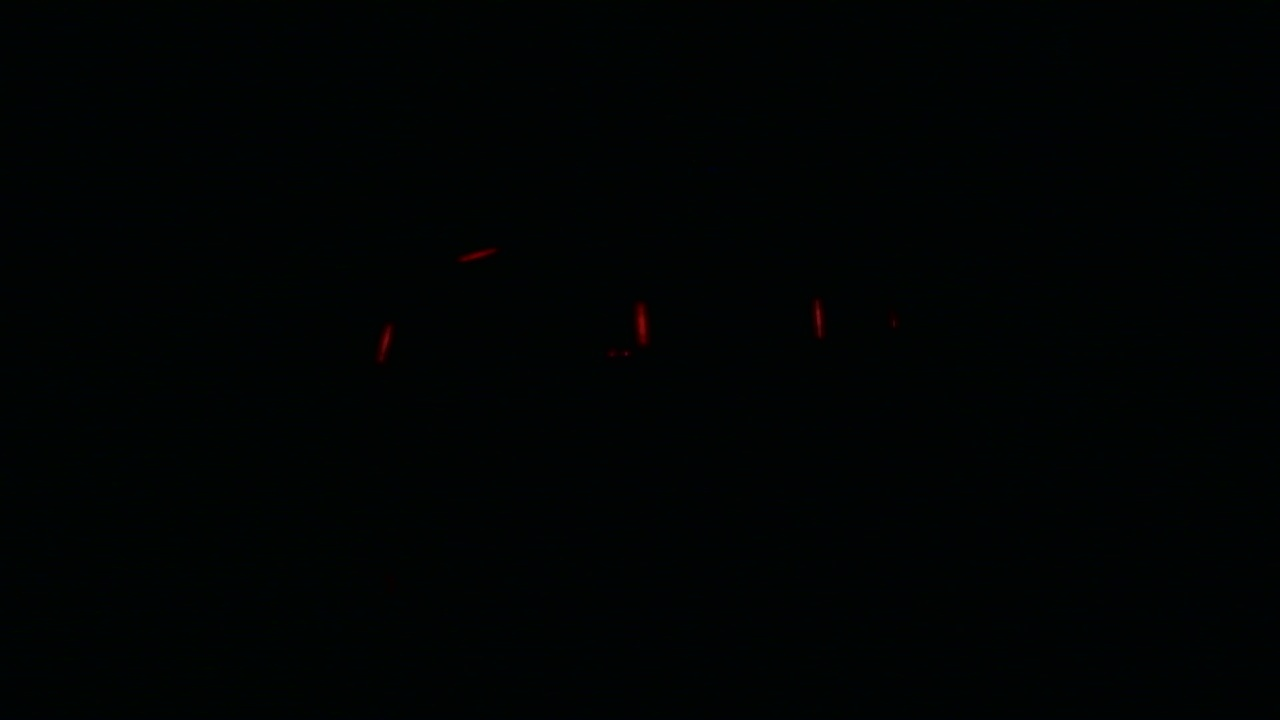lamp: (632, 298, 649, 344), (808, 297, 822, 338), (376, 327, 391, 360)
notpair2: (375, 295, 652, 372)
pair2: (633, 300, 824, 345)
